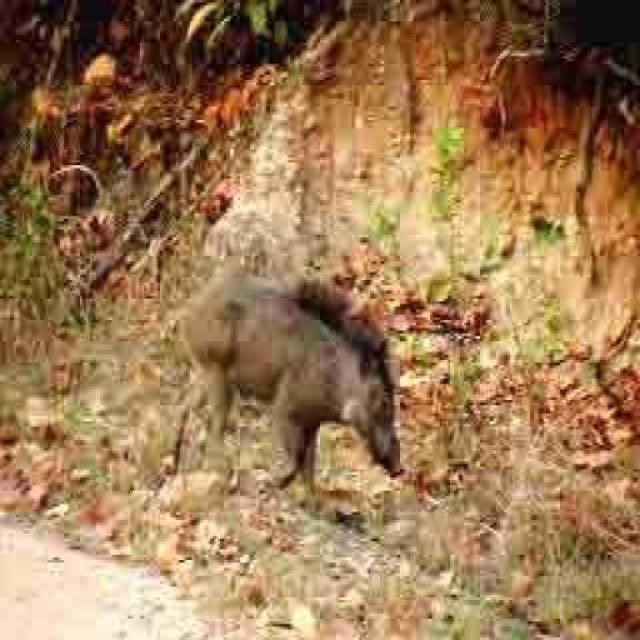pig: (160, 234, 456, 500)
